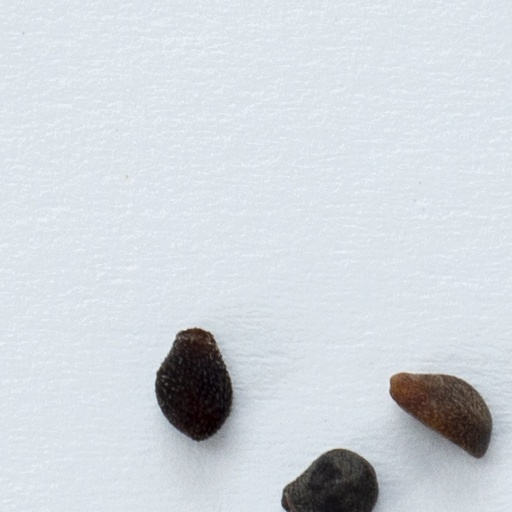Convolvulus-poly: (386, 372, 493, 466), (156, 327, 235, 447), (279, 445, 379, 511)
